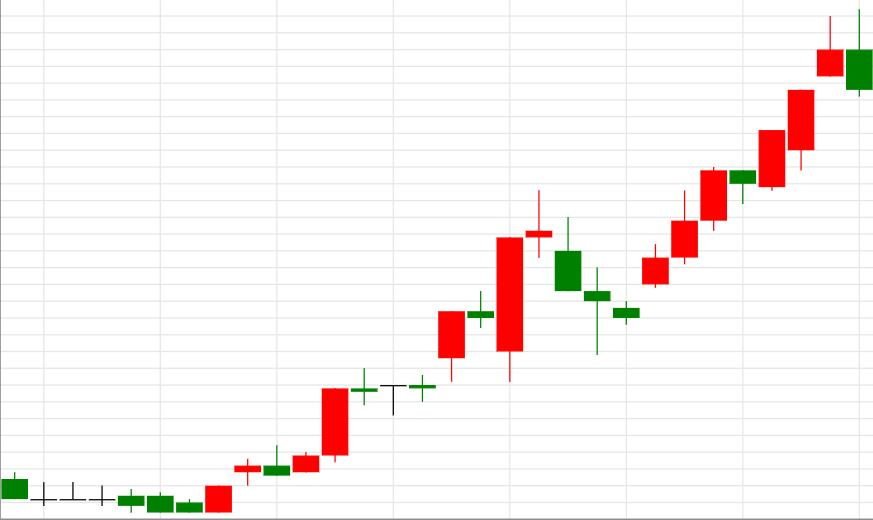evening_star_fall: (293, 191, 582, 472)
